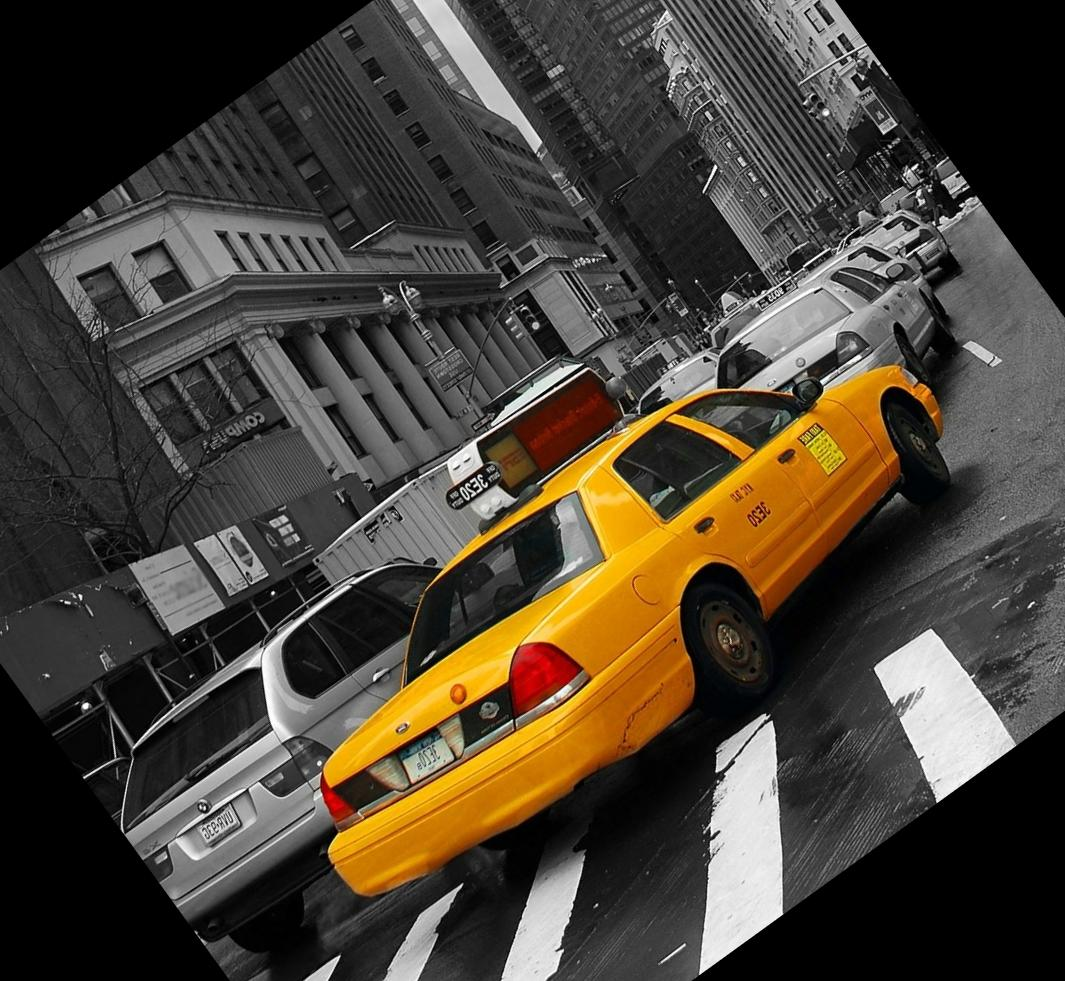taxi: (309, 358, 951, 920)
